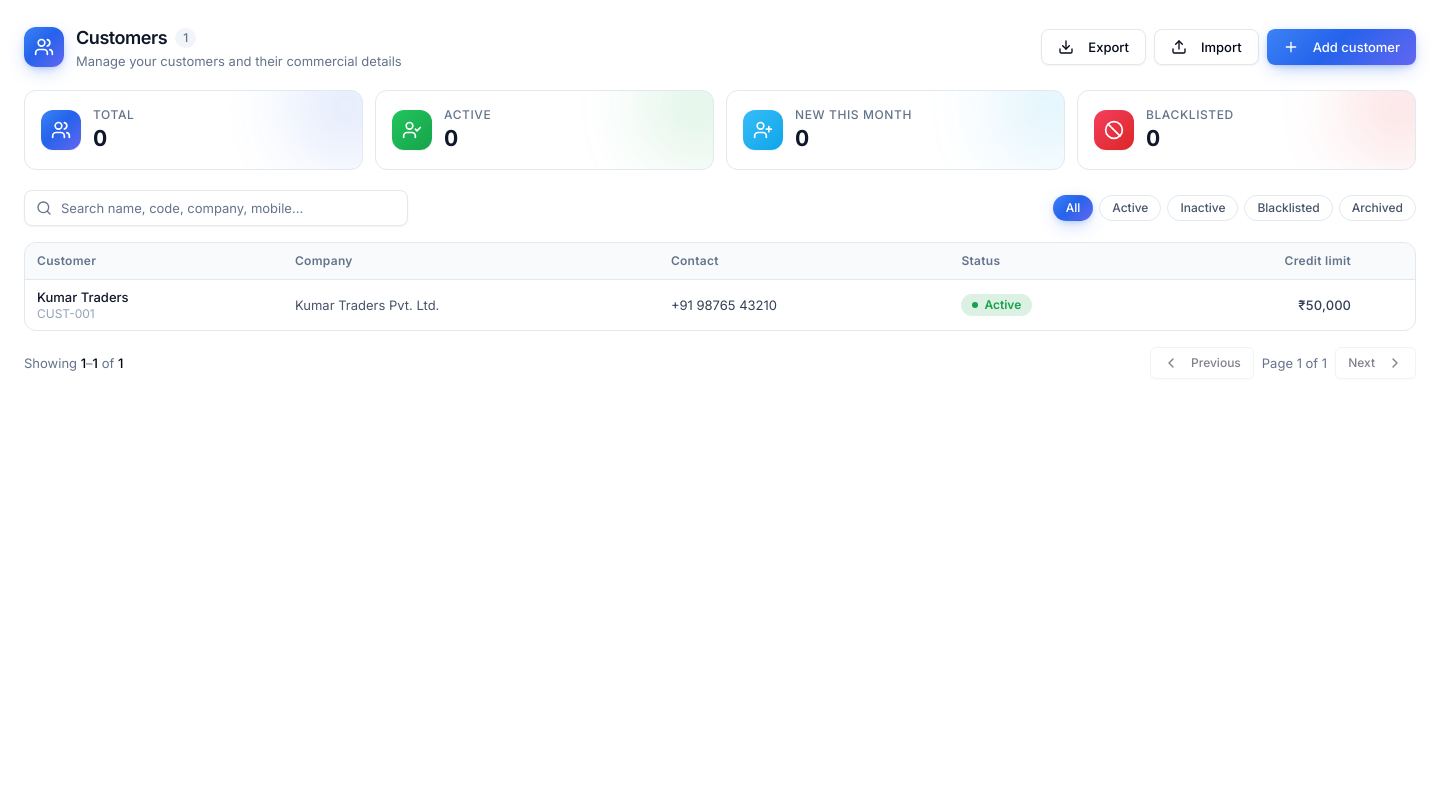
CustomersView › opens the import dialog when import is clicked
Expected: the dialog "import customers" is not shown
Click the button "Import": (1206, 47) [1154,29,1259,65]
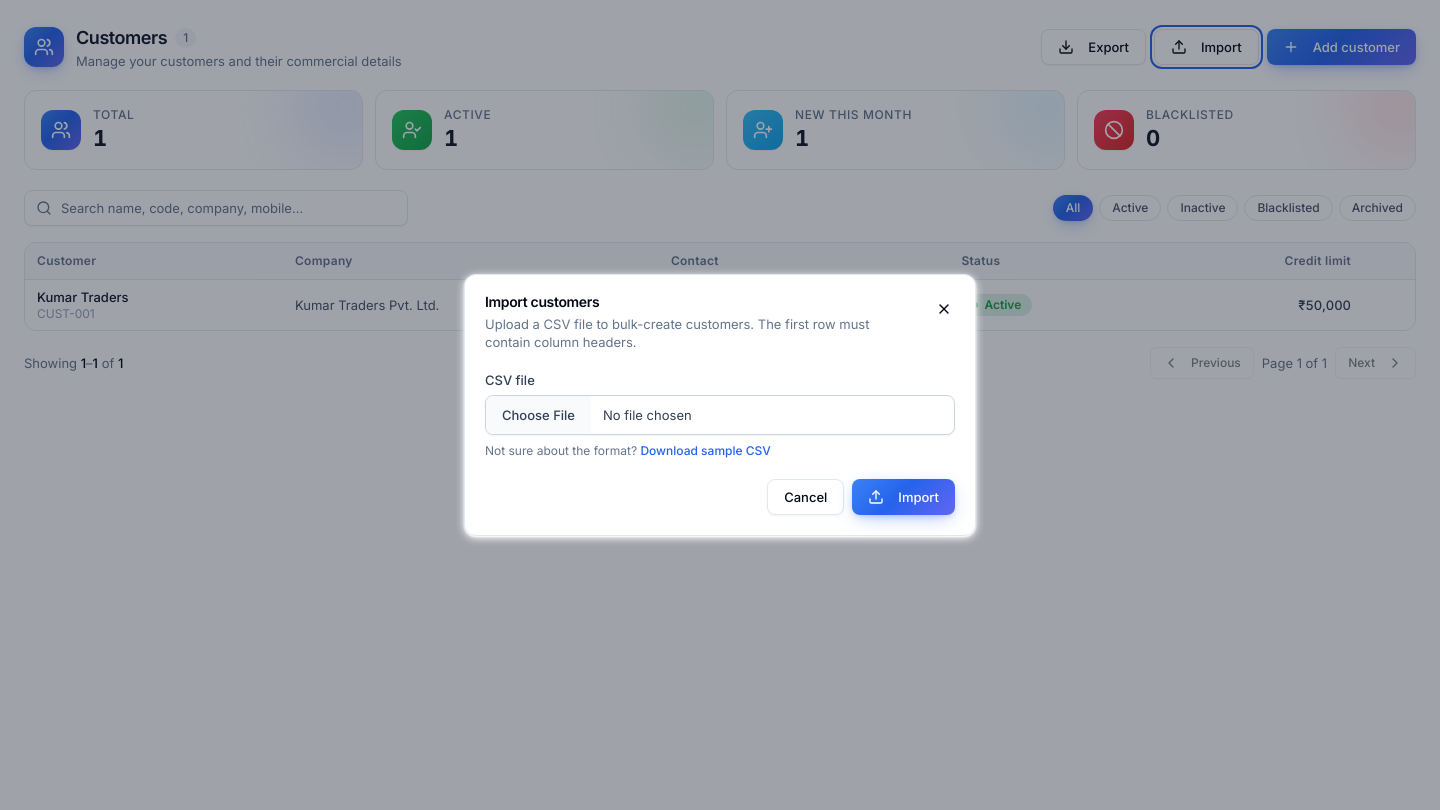
Expected: the dialog "Import customers" is shown
